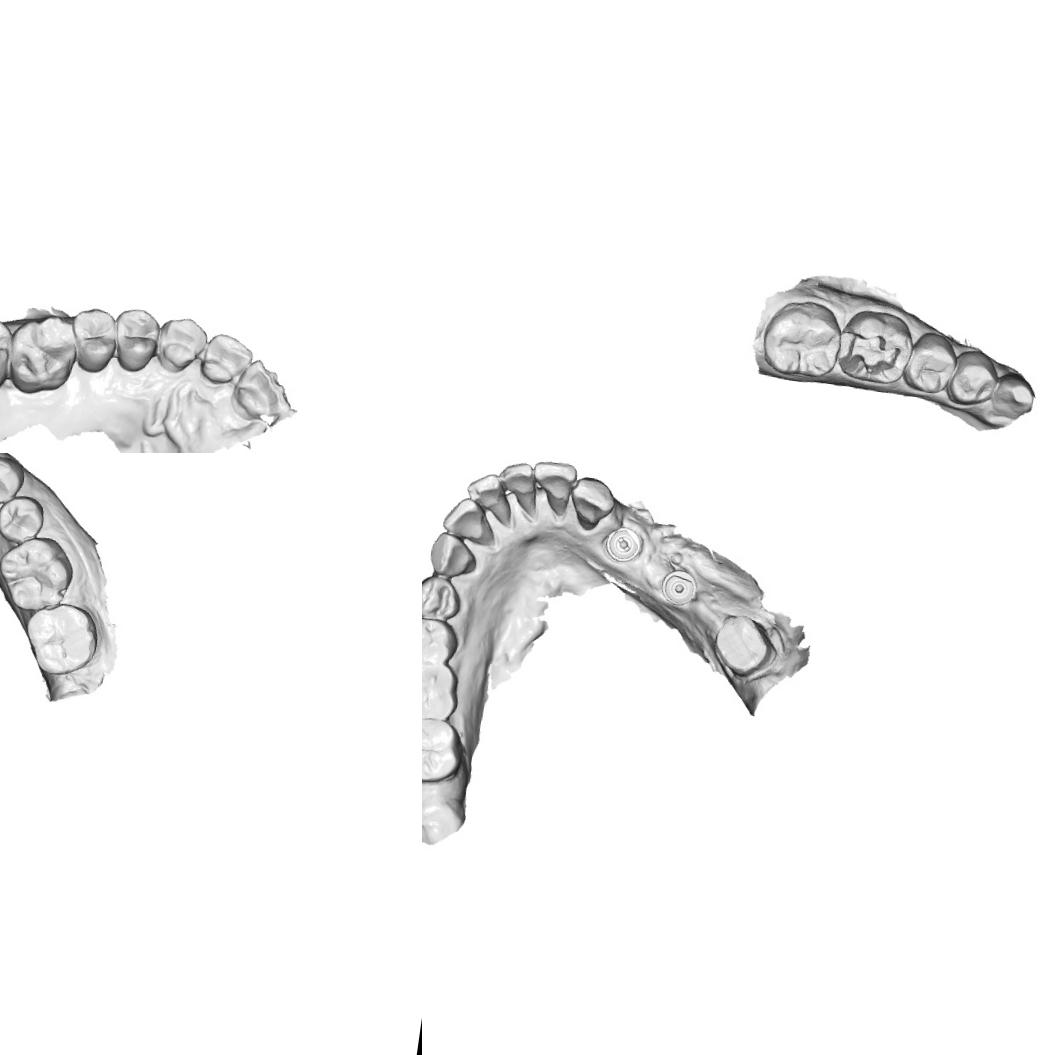canine: (152, 313, 210, 378), (980, 368, 1038, 430), (566, 473, 619, 534), (426, 530, 480, 581)
crown: (709, 609, 785, 686)
implant: (658, 568, 699, 608)
implant_minus: (602, 524, 647, 566)
incisor: (229, 356, 297, 422), (198, 330, 256, 389), (462, 470, 518, 528), (439, 494, 501, 546), (528, 458, 580, 518), (494, 460, 538, 498)
inlay: (834, 324, 904, 381)
molar: (758, 294, 847, 381), (5, 308, 84, 402), (18, 597, 102, 681), (0, 530, 78, 617), (422, 713, 467, 788), (422, 660, 463, 725), (0, 312, 17, 397)
premolar: (64, 303, 122, 377), (901, 328, 961, 397), (109, 304, 164, 376), (943, 346, 1002, 410), (0, 490, 47, 548), (422, 572, 464, 624), (422, 613, 461, 666), (0, 453, 28, 508)
